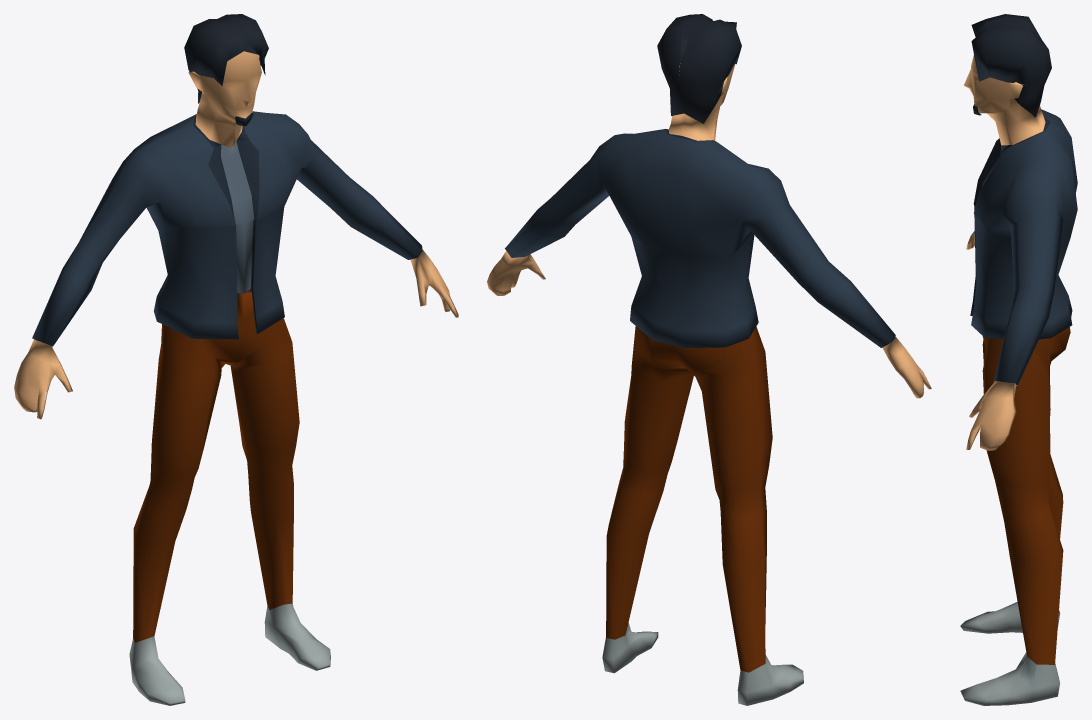
File: character30.glb
3 views of the same model, side by side, from view 1: azimuth 30°, elevation 25°; view 2: azimuth 150°, elevation 25°; view 3: azimuth 270°, elevation 25° (orthographic).
Parts seen in each view (by area): view 1: texture_this_shit; view 2: texture_this_shit; view 3: texture_this_shit.
Boxes of the visible parts, x1,y1,x2,y2 form: texture_this_shit: [14, 14, 458, 705]; texture_this_shit: [487, 14, 931, 705]; texture_this_shit: [960, 14, 1077, 705].
Size of the model in its own units: 0.1617 by 0.2324 by 0.0387.
1 material, 1 textured.
